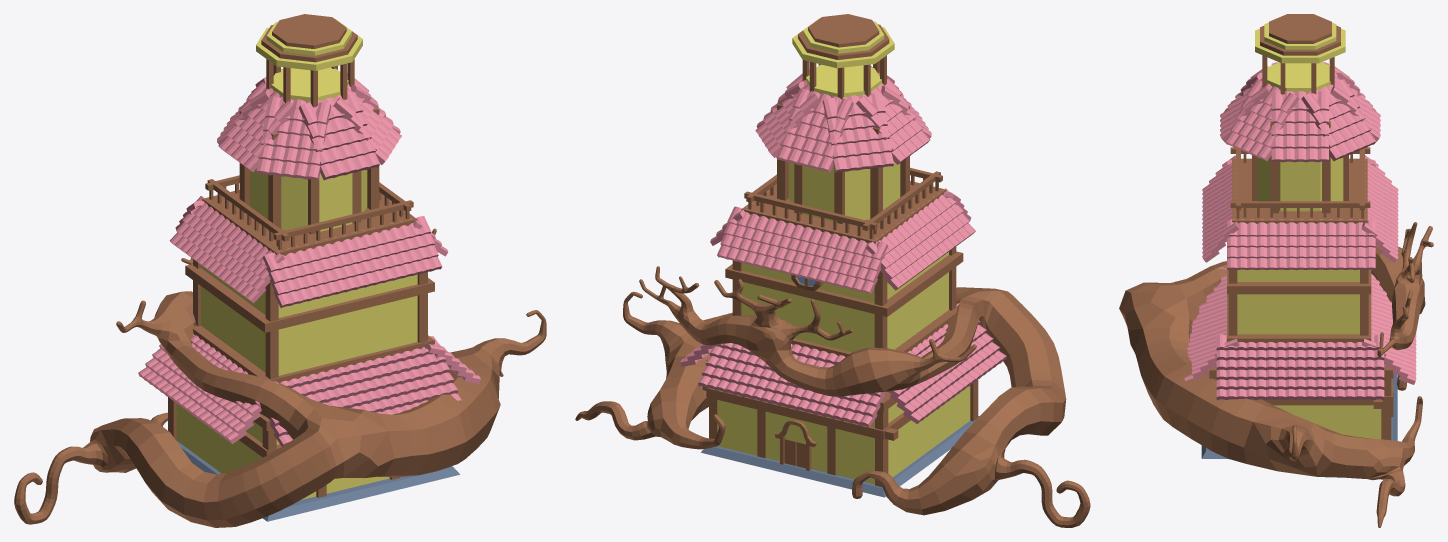
File: yokai building#1.fbx
3 renders of one model, left to right at view 1: azimuth 30°, elevation 25°; view 2: azimuth 150°, elevation 25°; view 3: azimuth 270°, elevation 25°, orthographic. The views are drawn at different scales.
Parts seen in each view (by area): view 1: tree wood, GRAPPLE.005, middleblock, roof tiles.002, roof tiles, tip, roof tiles.003, roof tiles.001, roof tiles.004, brick top, roof tiles.006, bottomw block (+4 smaller); view 2: tree wood, GRAPPLE.005, bottomw block, roof tiles.002, middleblock, roof tiles, tip, roof tiles.003, roof tiles.001, roof tiles.004, brick top, roof tiles.006 (+5 smaller); view 3: tree wood, GRAPPLE.005, roof tiles.001, roof tiles.003, middleblock, roof tiles.007, tip, roof tiles.002, roof tiles, roof tiles.005, brick top, bottomw block (+3 smaller).
Boxes of the visible parts, bbox=[...] form: tree wood: bbox=[14, 228, 546, 527]; GRAPPLE.005: bbox=[168, 59, 434, 497]; middleblock: bbox=[201, 265, 417, 375]; roof tiles.002: bbox=[175, 192, 442, 307]; roof tiles: bbox=[157, 336, 462, 446]; tip: bbox=[256, 14, 362, 101]; roof tiles.003: bbox=[169, 195, 448, 303]; roof tiles.001: bbox=[138, 334, 480, 444]; roof tiles.004: bbox=[217, 68, 331, 180]; brick top: bbox=[250, 168, 367, 231]; roof tiles.006: bbox=[251, 77, 380, 180]; bottomw block: bbox=[176, 404, 389, 500]; tree wood: bbox=[575, 266, 1090, 527]; GRAPPLE.005: bbox=[702, 55, 978, 487]; bottomw block: bbox=[717, 386, 970, 484]; roof tiles.002: bbox=[717, 189, 971, 294]; middleblock: bbox=[742, 252, 948, 352]; roof tiles: bbox=[698, 333, 989, 427]; tip: bbox=[792, 14, 894, 97]; roof tiles.003: bbox=[710, 188, 975, 290]; roof tiles.001: bbox=[680, 303, 1006, 424]; roof tiles.004: bbox=[822, 66, 931, 172]; brick top: bbox=[788, 161, 900, 221]; roof tiles.006: bbox=[776, 72, 898, 172]; tree wood: bbox=[1119, 222, 1433, 527]; GRAPPLE.005: bbox=[1209, 55, 1392, 450]; roof tiles.001: bbox=[1216, 267, 1384, 400]; roof tiles.003: bbox=[1227, 159, 1375, 270]; middleblock: bbox=[1237, 269, 1359, 334]; roof tiles.007: bbox=[1224, 79, 1376, 161]; tip: bbox=[1255, 14, 1345, 92]; roof tiles.002: bbox=[1202, 155, 1398, 262]; roof tiles: bbox=[1184, 274, 1416, 384]; roof tiles.005: bbox=[1271, 62, 1328, 162]; brick top: bbox=[1257, 157, 1343, 211]; bottomw block: bbox=[1274, 405, 1381, 439].
Size of what is drawn, in the model's own units: 6511 by 5409 by 3808.
